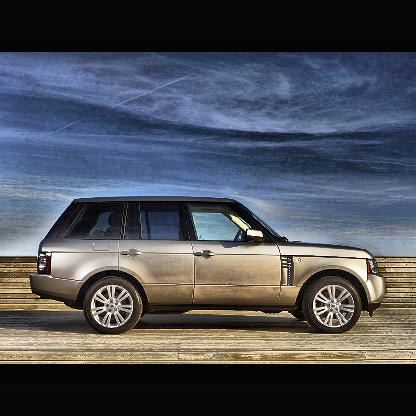Land Rover Range Rover SUV 2012: (30, 199, 387, 336)
